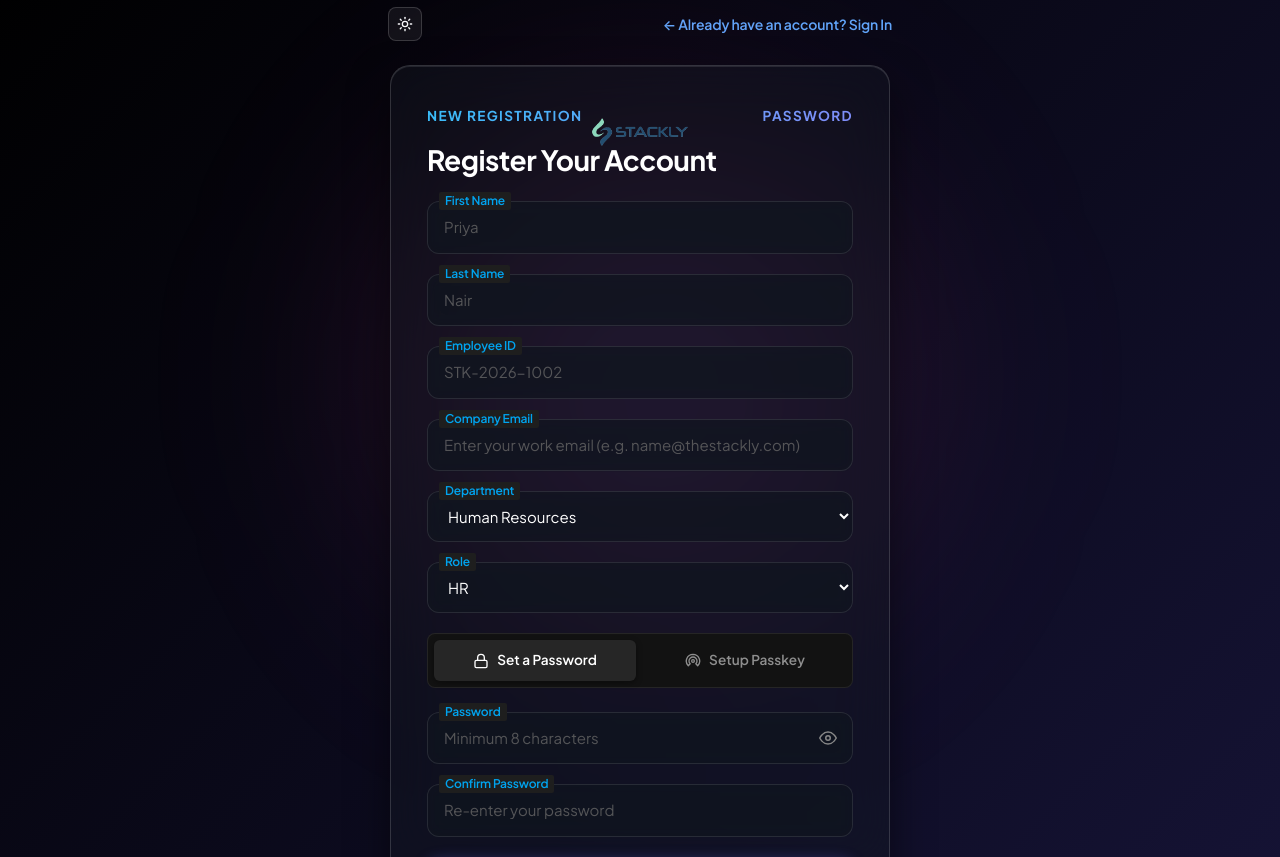
Test: Step 3: SignUpPage Component Unit Tests › 3.4 should validate password length under 8 characters
In the field labelled "First Name": (640, 228) [427, 201, 853, 254], type "Jane"
In the field labelled "Last Name": (640, 300) [427, 274, 853, 326], type "Doe"
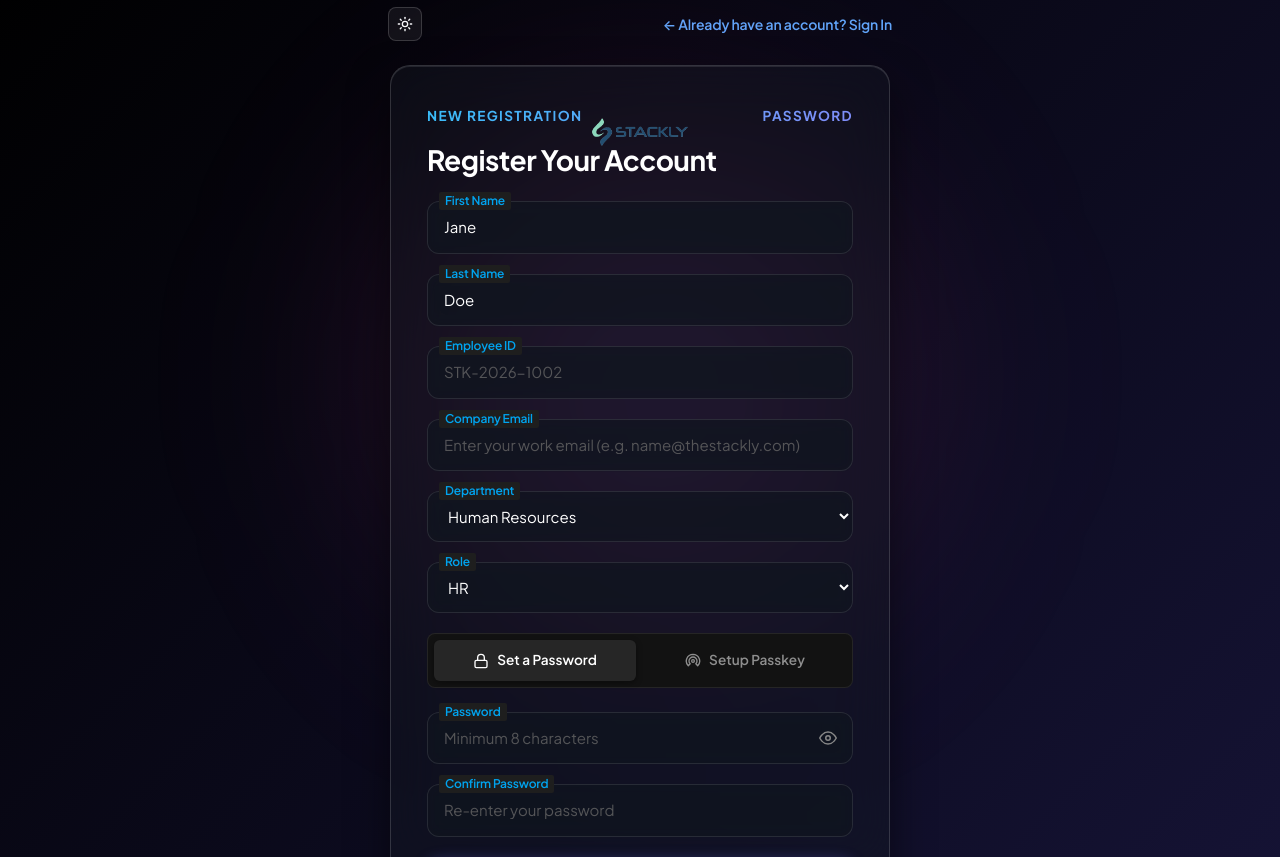
In the field labelled "Employee ID": (640, 373) [427, 346, 853, 399], type "STK-2026-1001"
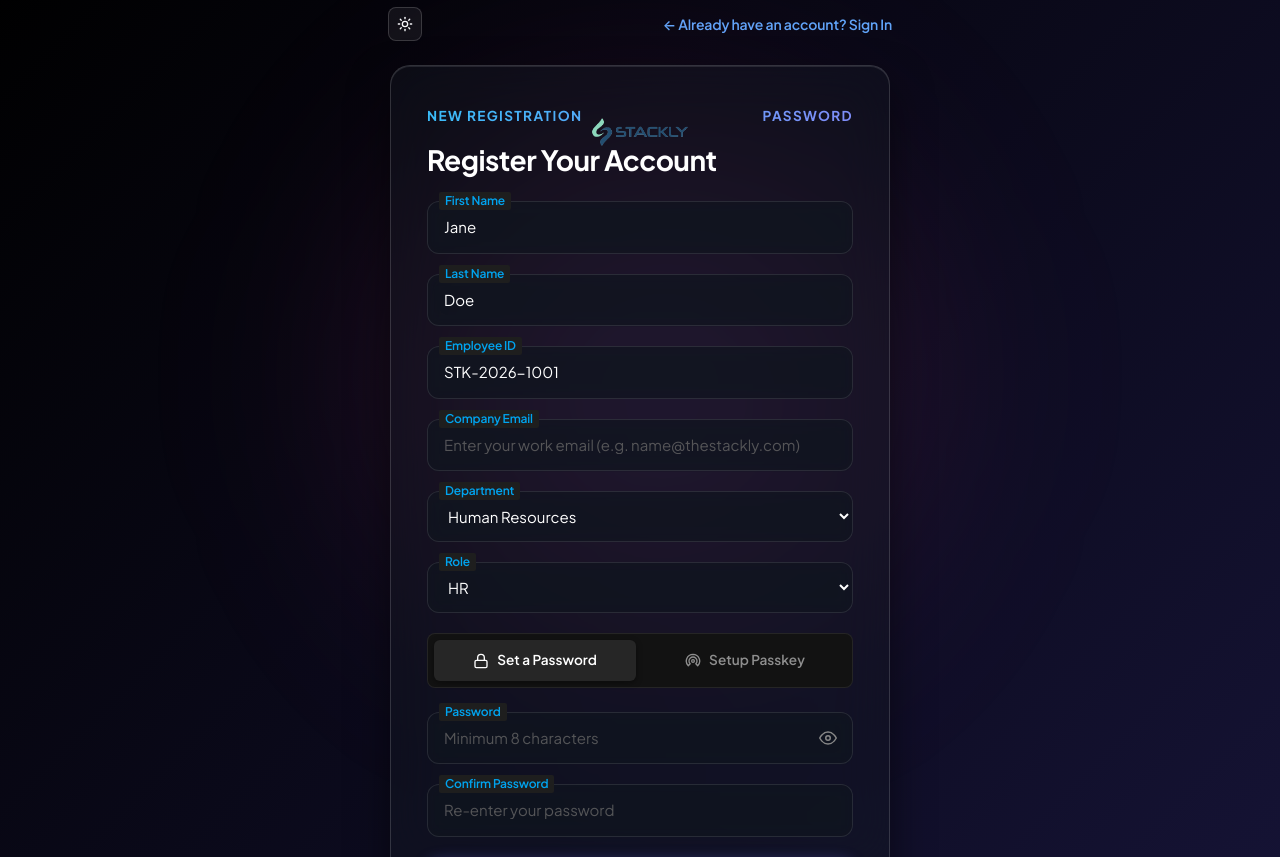
In the field labelled "Company Email": (640, 445) [427, 419, 853, 471], type "jane@thestackly.com"
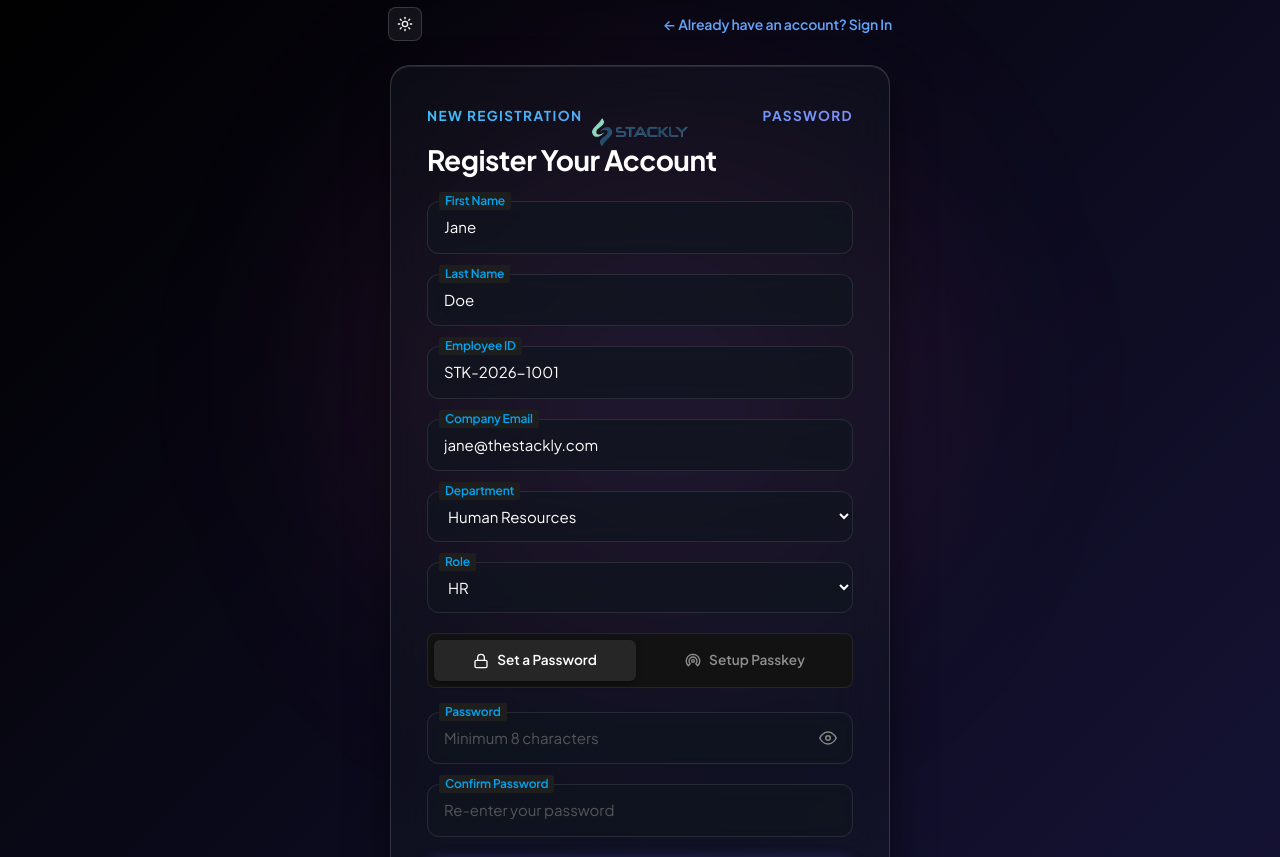
In the password field labelled "Password": (640, 738) [427, 712, 853, 764], type "short"
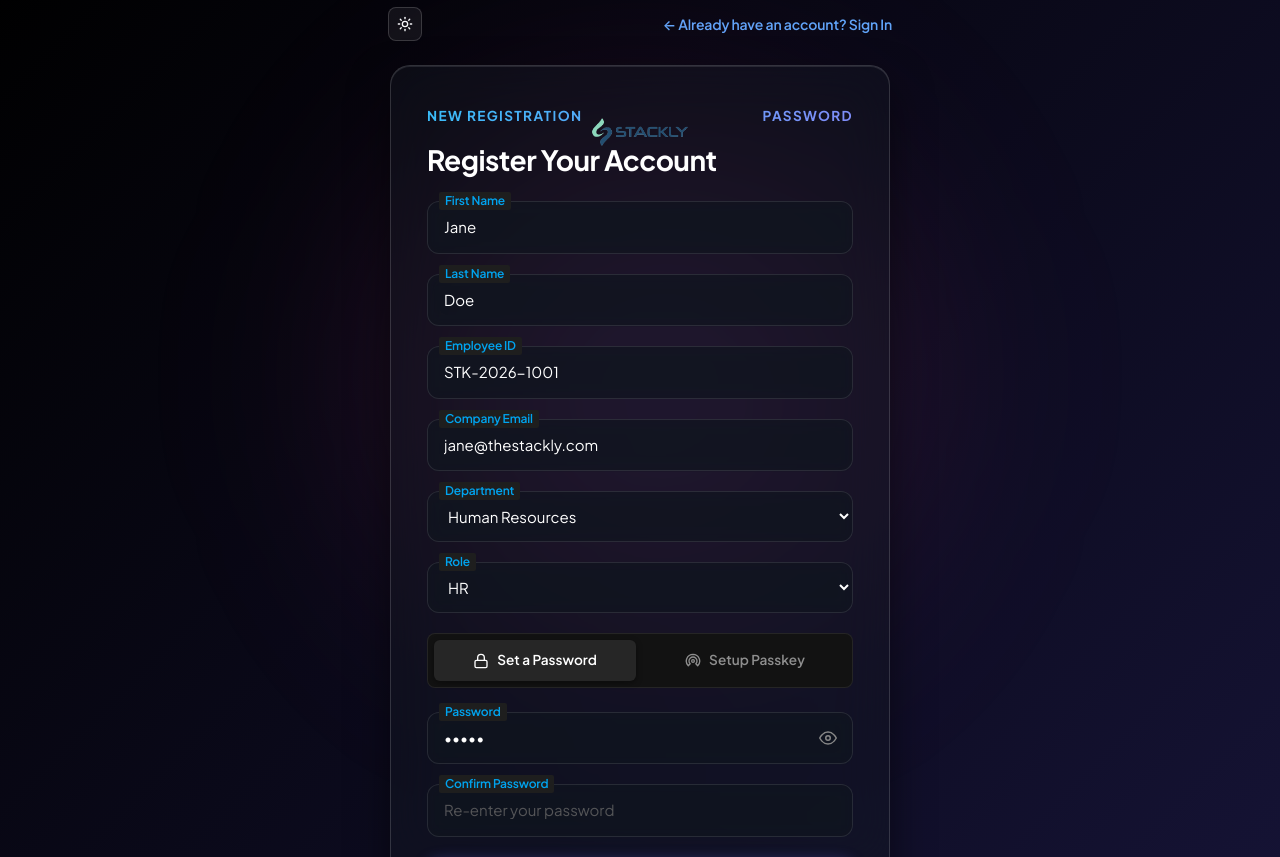
In the password field labelled "Confirm Password": (640, 811) [427, 784, 853, 837], type "short"
(page scrolled)
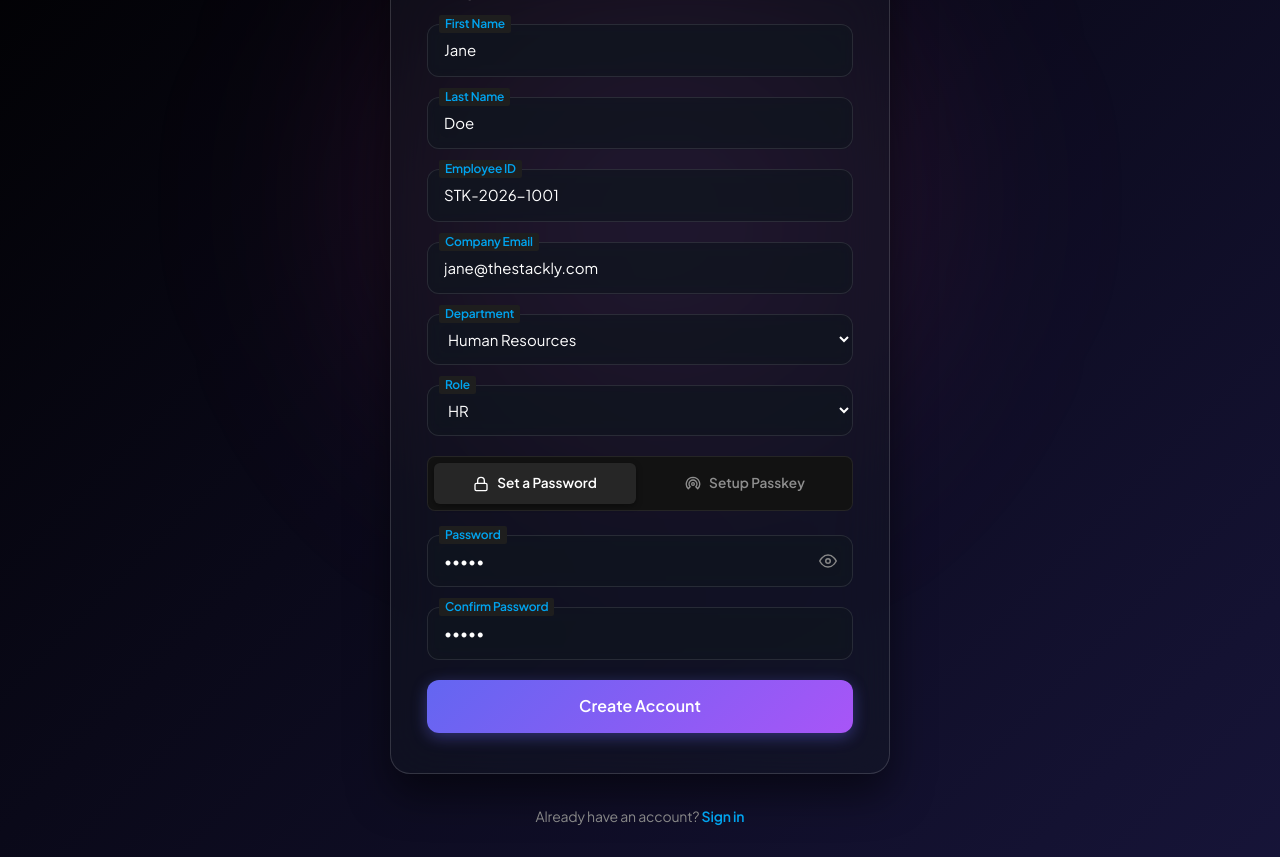
Click the button "Create Account": (640, 706) [427, 680, 853, 733]
(page scrolled)
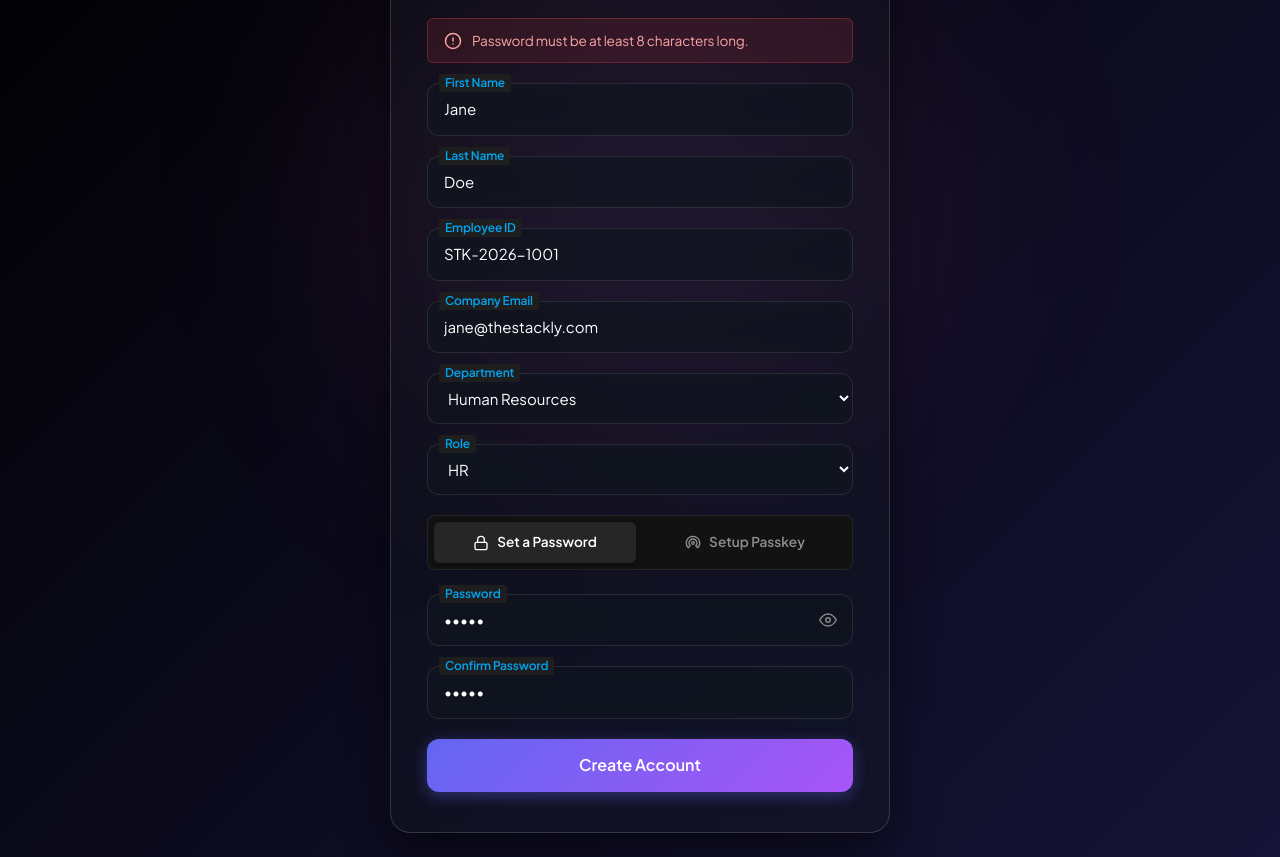
Now the text "Password must be at least 8 characters long." is shown, box [472, 31, 748, 50]
